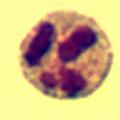neutrophil: (16, 8, 115, 101)
